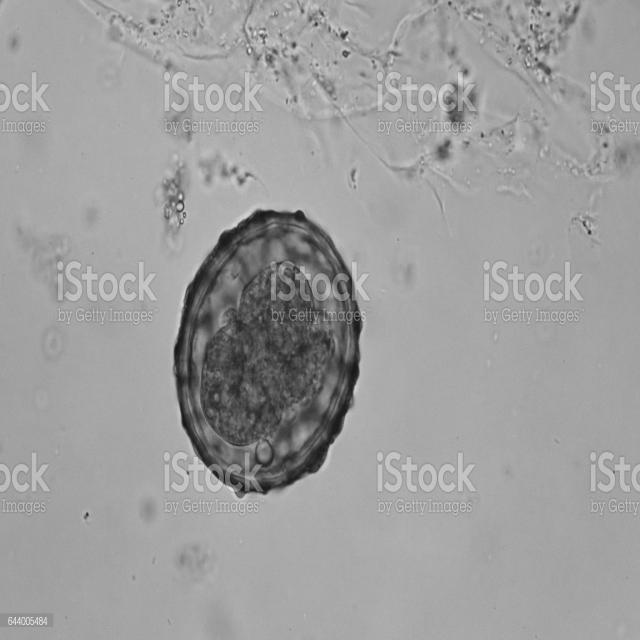Ascaris Lumbricoides: (167, 203, 368, 512)
